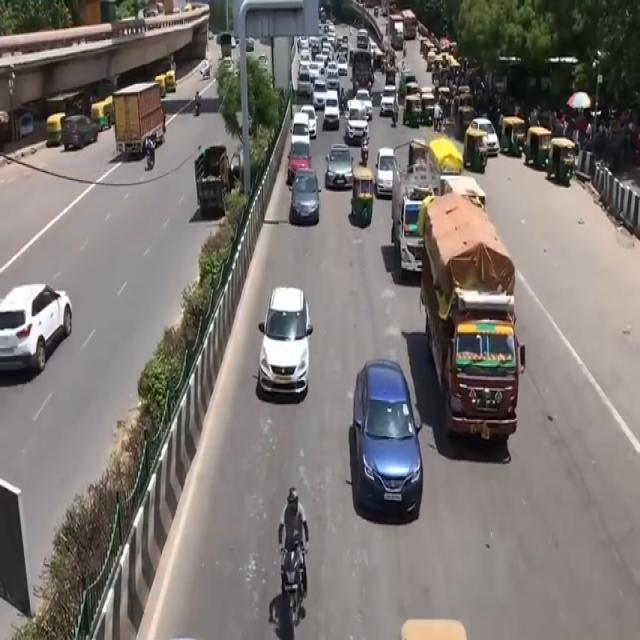MOTORCYCLE: (279, 538, 308, 638)
TRUCK: (420, 192, 518, 452), (114, 81, 167, 160)
